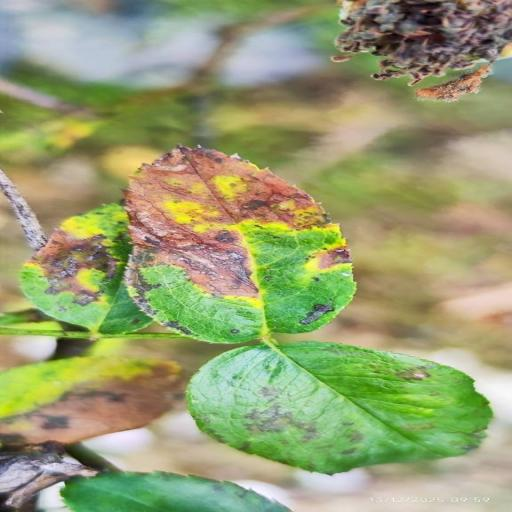healthy_leaf: (61, 472, 291, 512)
thrip: (124, 147, 354, 342), (188, 342, 491, 474), (21, 204, 151, 334), (0, 356, 184, 445), (336, 0, 511, 85)
